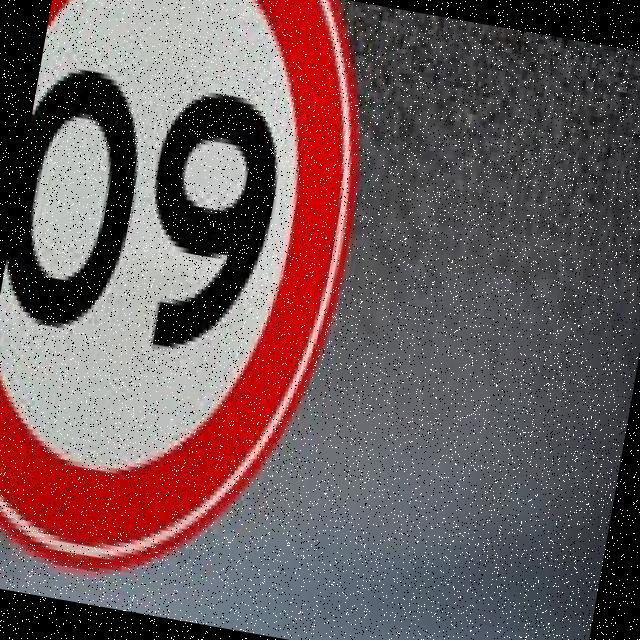speed_limit_60: (0, 0, 389, 610)
